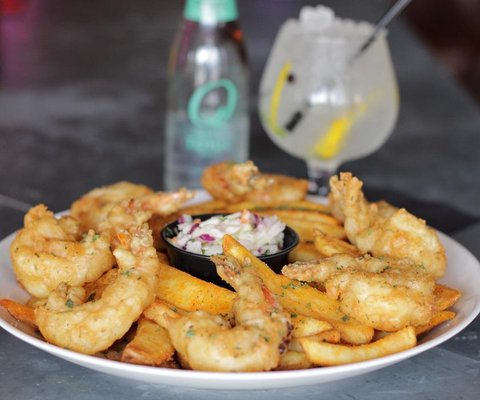sushi: (161, 207, 300, 286)
